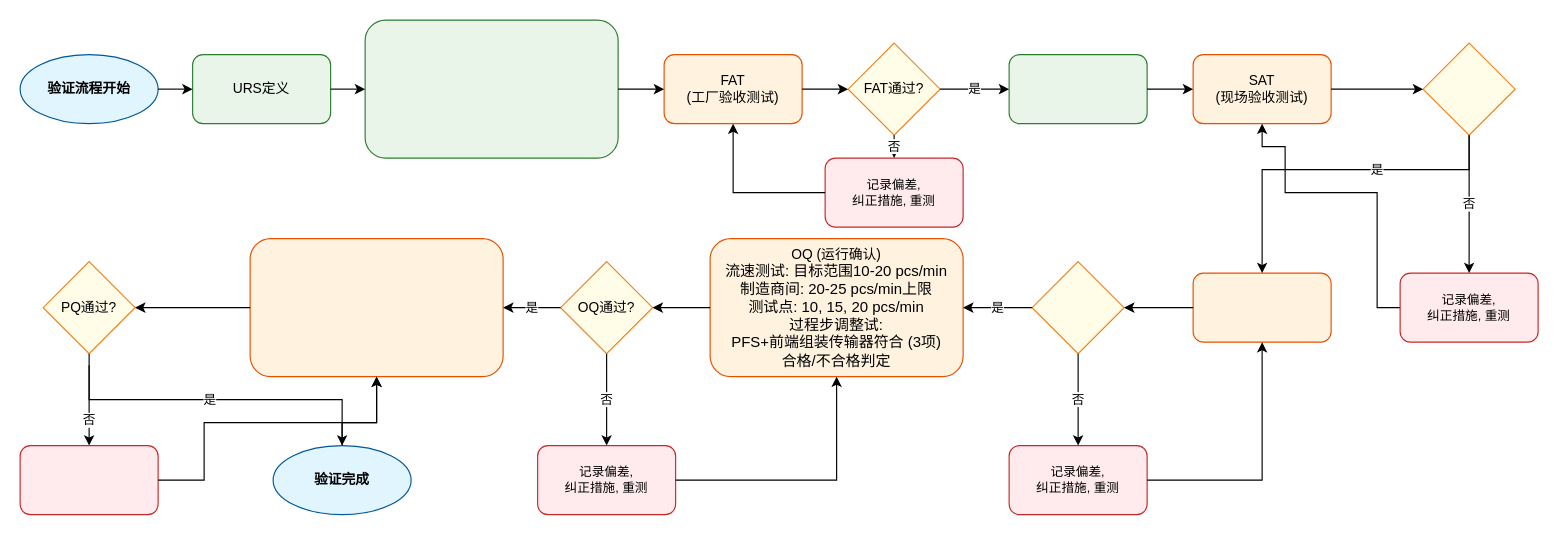
Image size: 1558x535. Some labels were removed from this diagram. Here are the shapes that lost their labels. From the top down, the box of each, then its label:
(364, 19, 618, 158): 规划阶段(PFMEA, DQE) PFMEA: 考虑300-500只调试运行 DQE: 针对PFS+前端,前端+PFS 水平: LL, L, N, H, HH
(1008, 53, 1147, 124): 设备运输与安装
(1422, 42, 1515, 135): SAT通过?
(249, 237, 503, 377): PQ (性能确认) 流速: 15 pcs/min (单程提速) 多批次生产测试 产品质量一致性确认
(1031, 260, 1124, 354): IQ通过?
(1192, 272, 1331, 342): IQ (安装确认)
(19, 444, 158, 515): 记录偏差, RCA, 纠正/预防措施, 重测
